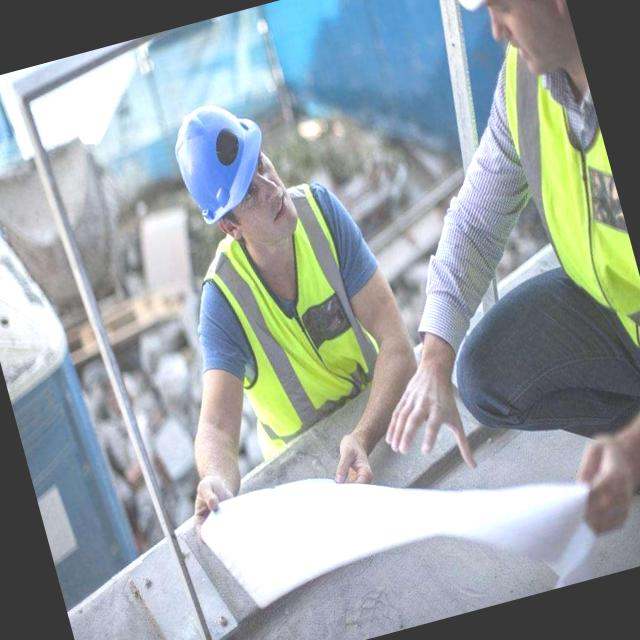helmet: (162, 91, 288, 235)
vest: (485, 33, 640, 377), (190, 178, 388, 442)
